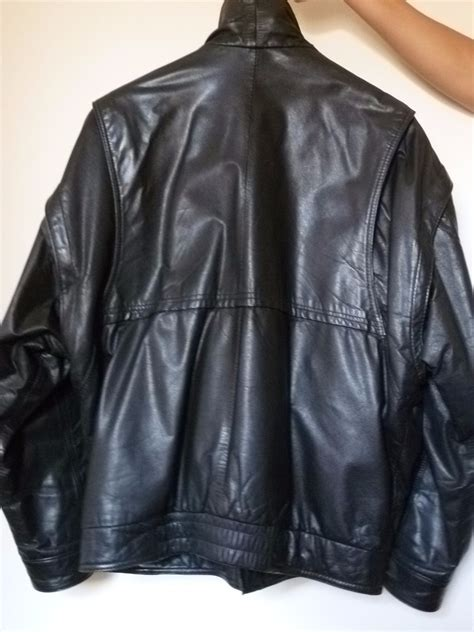cuero: (1, 1, 474, 613)
